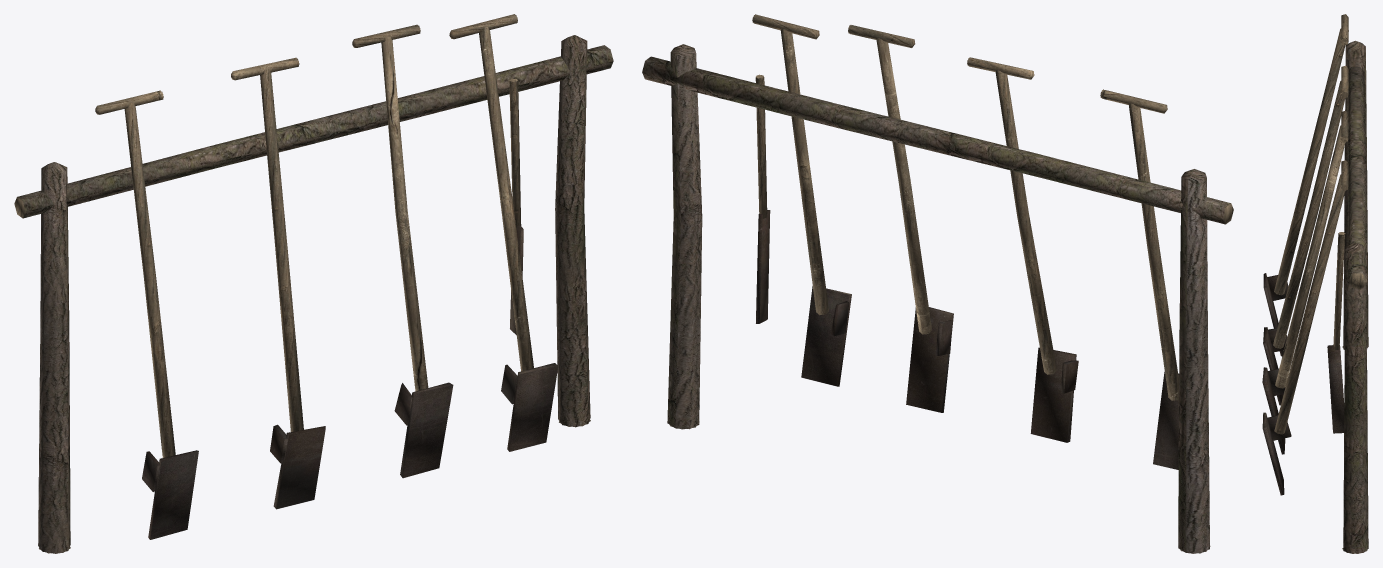
Rendered from kit_lw_spade_rack_p.glb.
3 views of the same model, side by side, from view 1: azimuth 30°, elevation 25°; view 2: azimuth 150°, elevation 25°; view 3: azimuth 270°, elevation 25° (orthographic). The views are drawn at different scales.
Visible parts, largest first — view 1: kit_lw_spade_rack_p; view 2: kit_lw_spade_rack_p; view 3: kit_lw_spade_rack_p.
Part boxes in pixels (x1,y1,x2,y2): kit_lw_spade_rack_p: (14, 14, 613, 553); kit_lw_spade_rack_p: (642, 14, 1233, 553); kit_lw_spade_rack_p: (1262, 14, 1368, 553).
Size of the model in its own units: 2.04 by 1.46 by 0.4002.
Materials: 1 (1 with a texture image).
